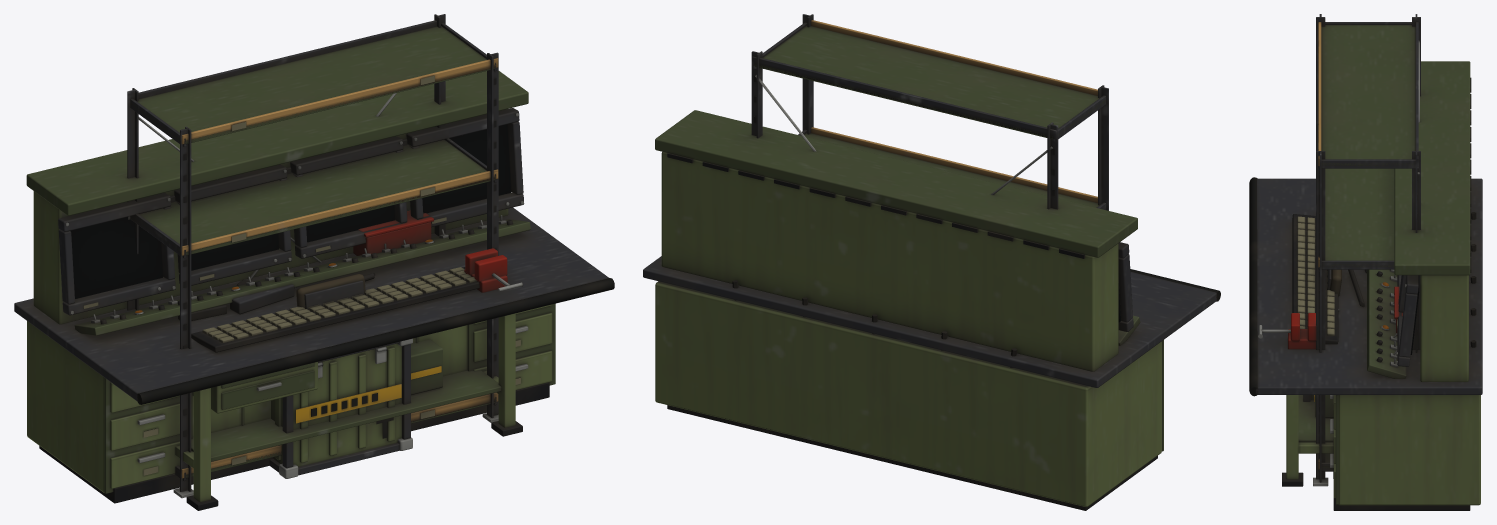
Rendered from outpost_props.gltf.
3 renders of one model, left to right at view 1: azimuth 30°, elevation 25°; view 2: azimuth 150°, elevation 25°; view 3: azimuth 270°, elevation 25°, orthographic. The views are drawn at different scales.
Visible parts, largest first — view 1: SecurityDesk, Shelf, WeaponBench, Crate, Chair; view 2: SecurityDesk, Shelf; view 3: SecurityDesk, Shelf, WeaponBench, Chair.
Boxes of the visible parts, <box> form: SecurityDesk: <box>14,71,614,503</box>; Shelf: <box>127,14,498,498</box>; WeaponBench: <box>175,208,523,510</box>; Crate: <box>269,338,412,478</box>; Chair: <box>296,274,365,309</box>; SecurityDesk: <box>643,110,1220,510</box>; Shelf: <box>751,14,1108,210</box>; SecurityDesk: <box>1249,61,1482,510</box>; Shelf: <box>1313,14,1420,486</box>; WeaponBench: <box>1258,269,1402,486</box>; Chair: <box>1327,269,1341,296</box>.
Size of the model in its own units: 3.26 by 2.41 by 1.53.
Materials: 14 (14 with a texture image).
